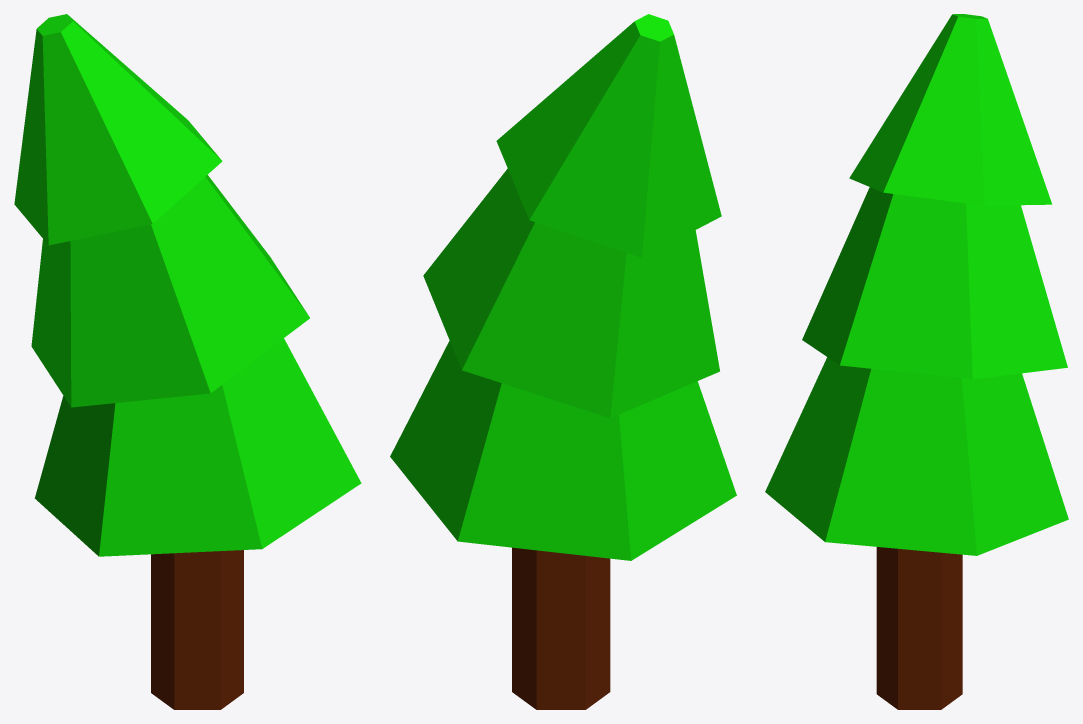
File: arvore 3.fbx
3 renders of one model, left to right at view 1: azimuth 30°, elevation 25°; view 2: azimuth 150°, elevation 25°; view 3: azimuth 270°, elevation 25°, orthographic. The views are drawn at different scales.
Visible parts, largest first — view 1: Circle.003; view 2: Circle.003; view 3: Circle.003.
Boxes of the visible parts, x1,y1,x2,y2 form: Circle.003: (14, 14, 361, 709); Circle.003: (390, 14, 736, 709); Circle.003: (765, 14, 1068, 709).
Bounding box in the file's own units: 412 × 955 × 417.
